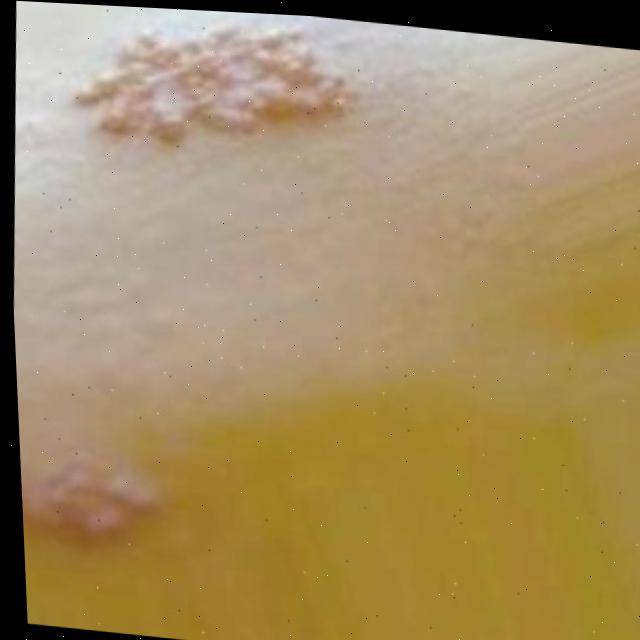Shingles: (77, 18, 355, 152), (29, 466, 149, 537)
